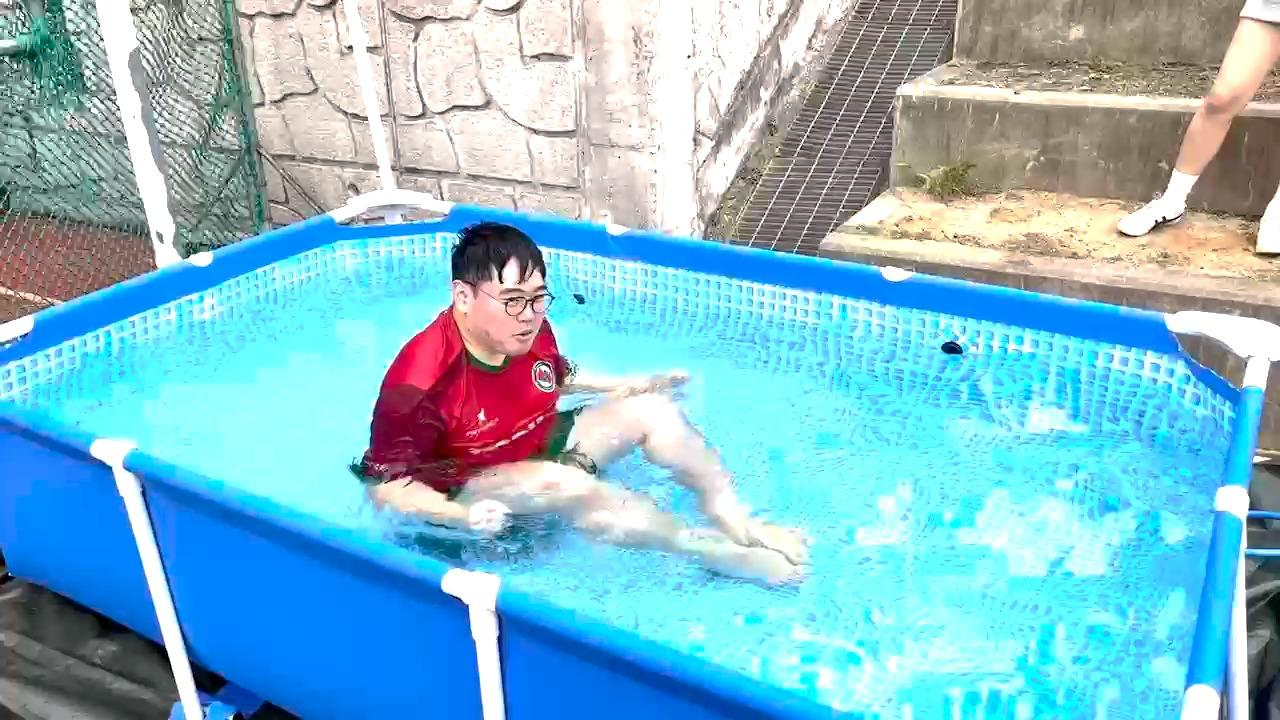Swimming: (227, 165, 842, 610)
